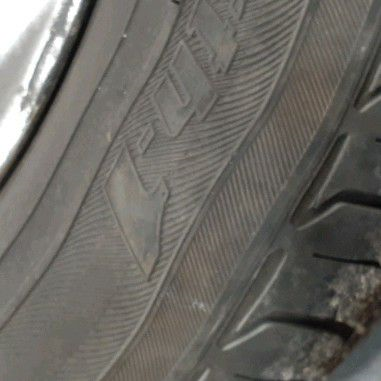CBU: (67, 144, 326, 313)
